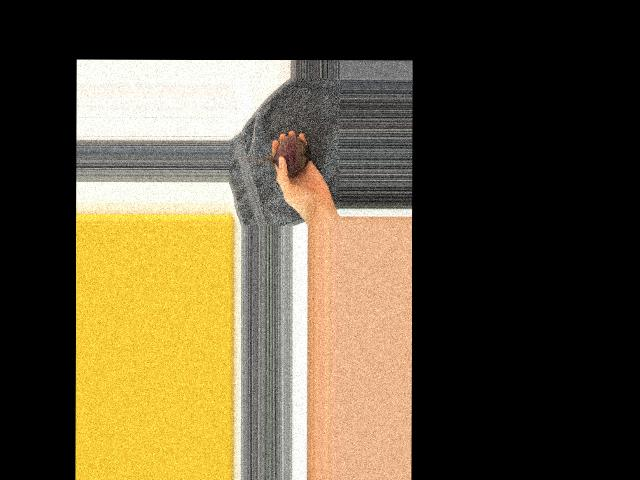beet: (244, 134, 311, 175)
